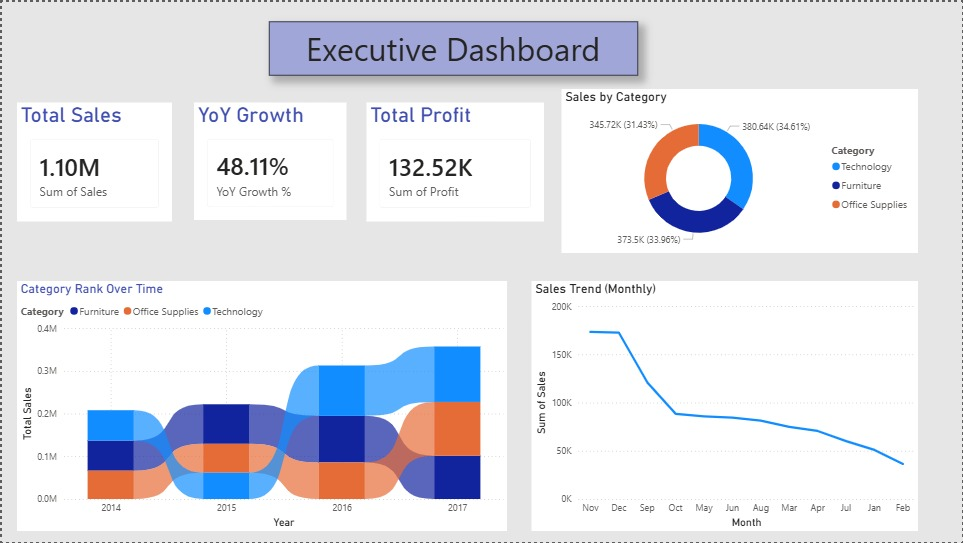

What the dashboard file says about the page in this screenshot:
{"tool":"powerbi","page":{"name":"Executive Dashboard","canvas":[1280,720],"ordinal":0},"visuals":[{"type":"textbox","box":[356.7,25,491.7,71.7],"z":0},{"type":"cardVisual","title":"Total Sales","fields":{"Data":["Sum(FactSales.Sales)","select"]},"box":[20,133.3,206.7,158.3],"z":1000},{"type":"cardVisual","title":"Total Profit","fields":{"Data":["Sum(FactSales.Profit)"]},"box":[485,133.3,236.7,158.3],"z":2000},{"type":"cardVisual","title":"YoY Growth","fields":{"Data":["FactSales.YoY Growth %"]},"box":[255,133.3,203.3,156.7],"z":3000},{"type":"donutChart","title":"Sales by Category","fields":{"Y":["Sum(FactSales.Sales)"],"Category":["DimProduct.Category"]},"box":[745,115,475,218.3],"z":4000},{"type":"ribbonChart","title":"Category Rank Over Time","fields":{"Category":["DimDate.Year"],"Series":["DimProduct.Category"],"Y":["FactSales.Total Sales"]},"box":[20,371.7,653.3,333.3],"z":5000},{"type":"lineChart","title":"Sales Trend (Monthly)","fields":{"Category":["DimDate.Month"],"Y":["Sum(FactSales.Sales)"]},"box":[705,371.7,515,333.3],"z":6000}]}

Visuals, with their boxes in screenshot pixels (x1, y1, x2, y2), scaled from the page's 1280x720 canvas onto the 963x543 screenshot:
textbox: box(268, 19, 638, 73)
"Total Sales" cardVisual: box(15, 101, 171, 220)
"Total Profit" cardVisual: box(365, 101, 543, 220)
"YoY Growth" cardVisual: box(192, 101, 345, 219)
"Sales by Category" donutChart: box(560, 87, 918, 251)
"Category Rank Over Time" ribbonChart: box(15, 280, 507, 532)
"Sales Trend (Monthly)" lineChart: box(530, 280, 918, 532)
